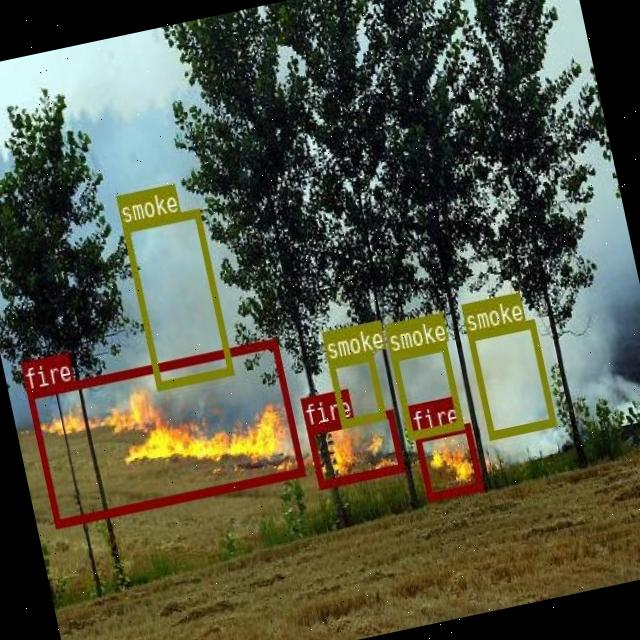fire: (25, 337, 303, 526), (305, 408, 403, 488), (412, 422, 482, 501)
smoke: (121, 208, 232, 389), (467, 318, 555, 438), (389, 340, 462, 438), (326, 351, 384, 426)
